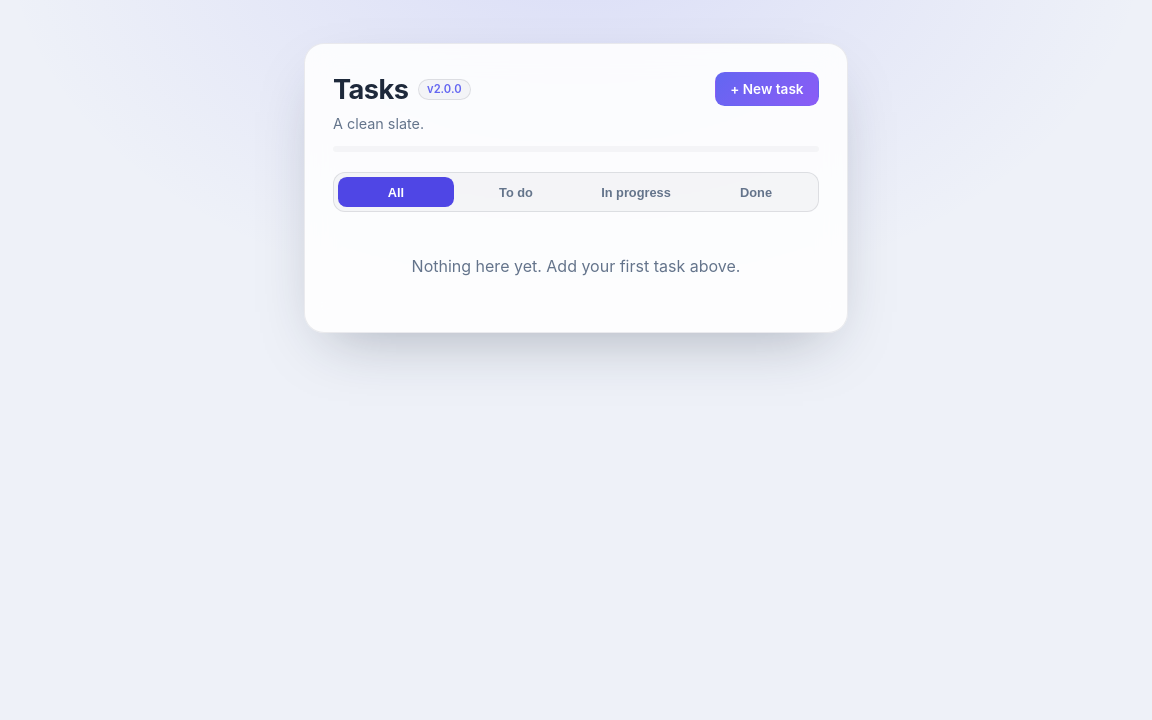
it: App › creating & editing › edits a task through the modal
Expected: the text "Nothing here yet. Add your first task above." is shown, left=412, top=256, right=740, bottom=276
Click the button "+ New task": (767, 89) left=715, top=72, right=819, bottom=106
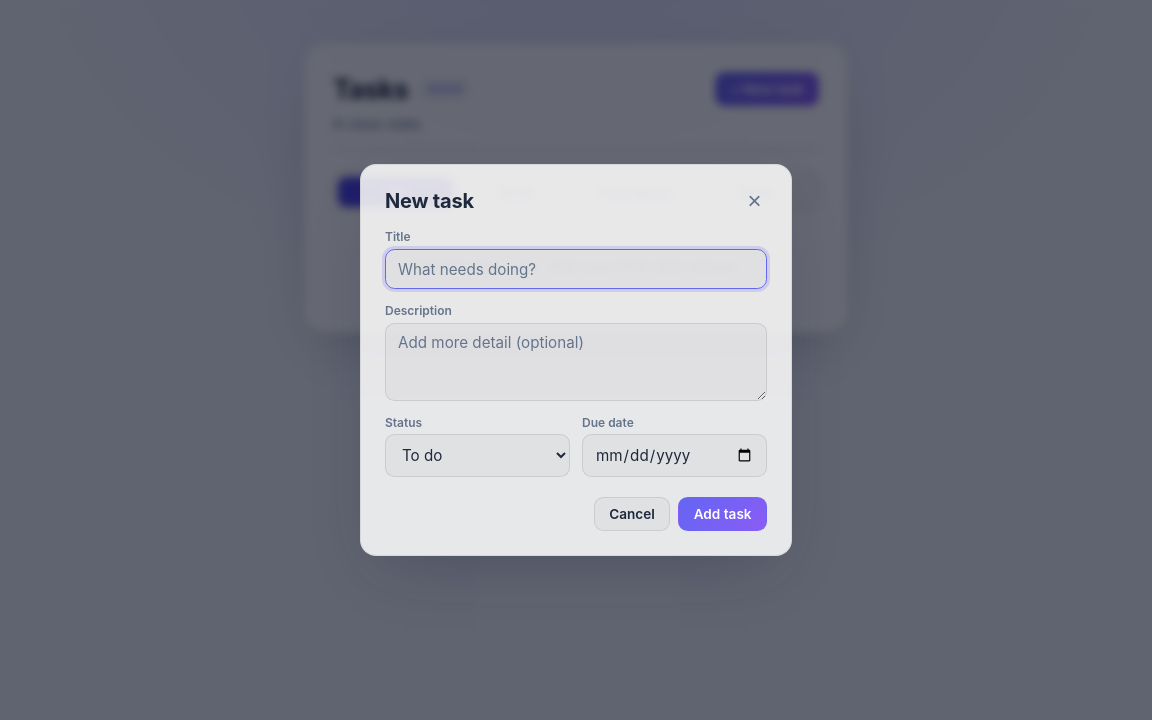
In the field named "task title": (576, 269) left=385, top=249, right=767, bottom=289, type "Old name"
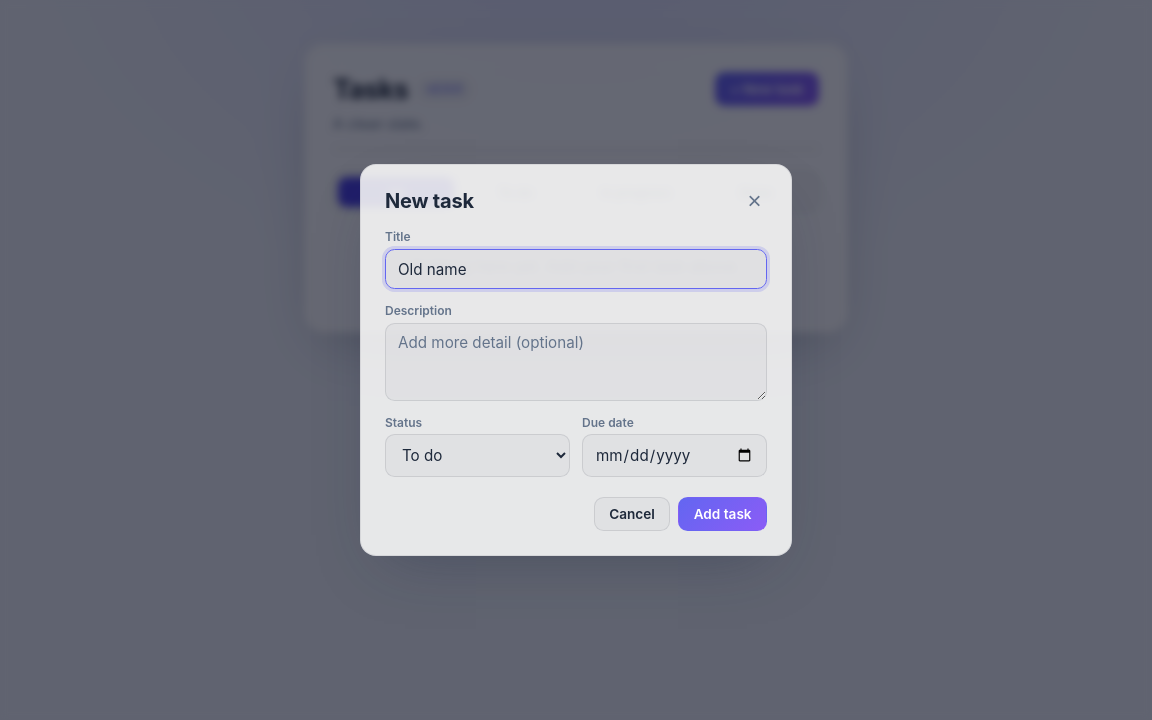
Click the button "Add task": (723, 514) left=678, top=497, right=767, bottom=531
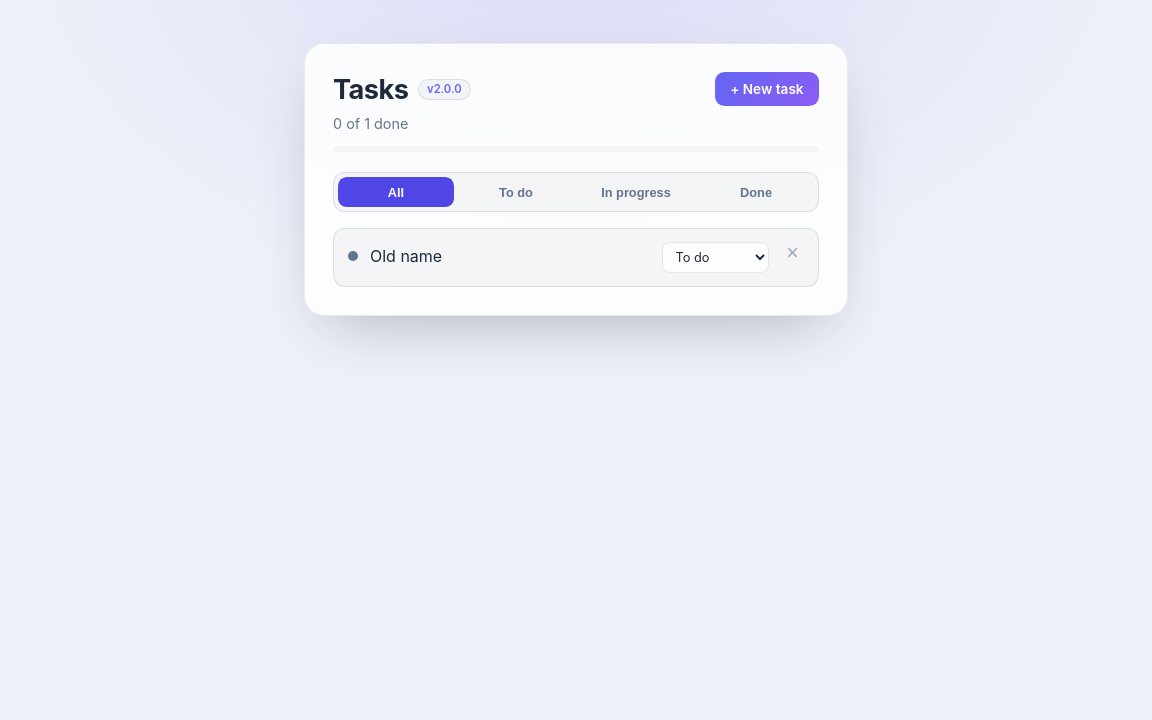
Now the text "Old name" is shown, box left=370, top=246, right=442, bottom=267
Click the button named "edit \"Old name\"": (406, 256) left=370, top=242, right=650, bottom=270
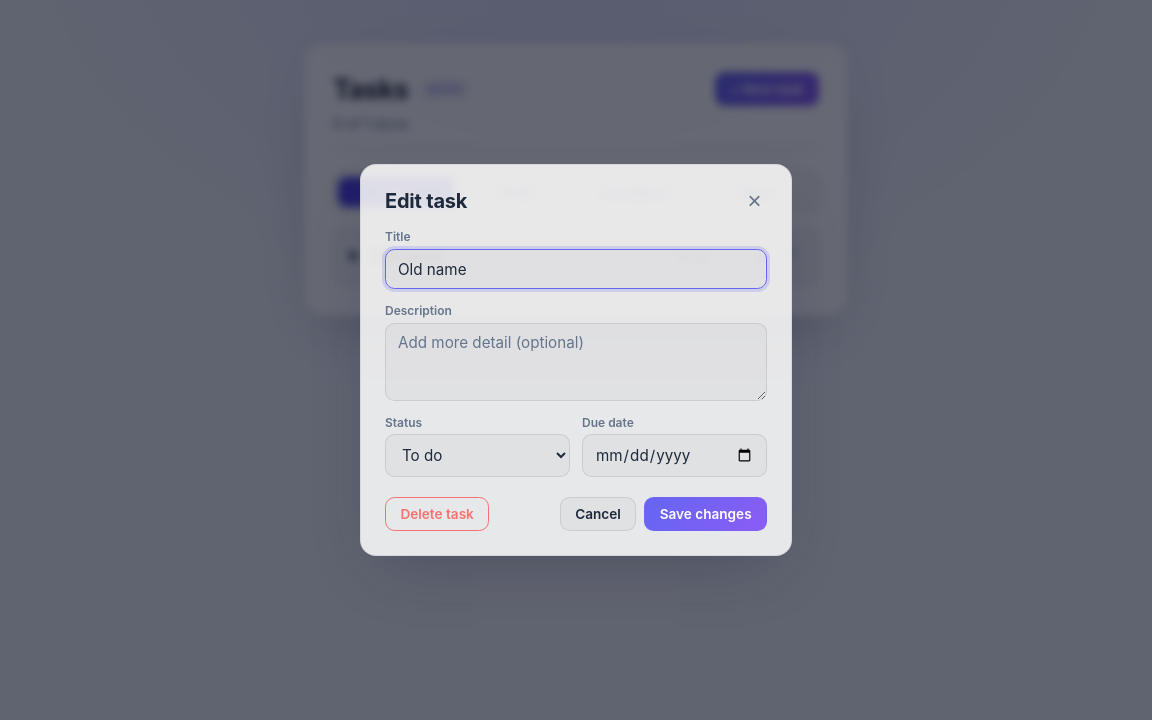
Replace the text in the field named "task title" with "New name": (576, 269) left=385, top=249, right=767, bottom=289
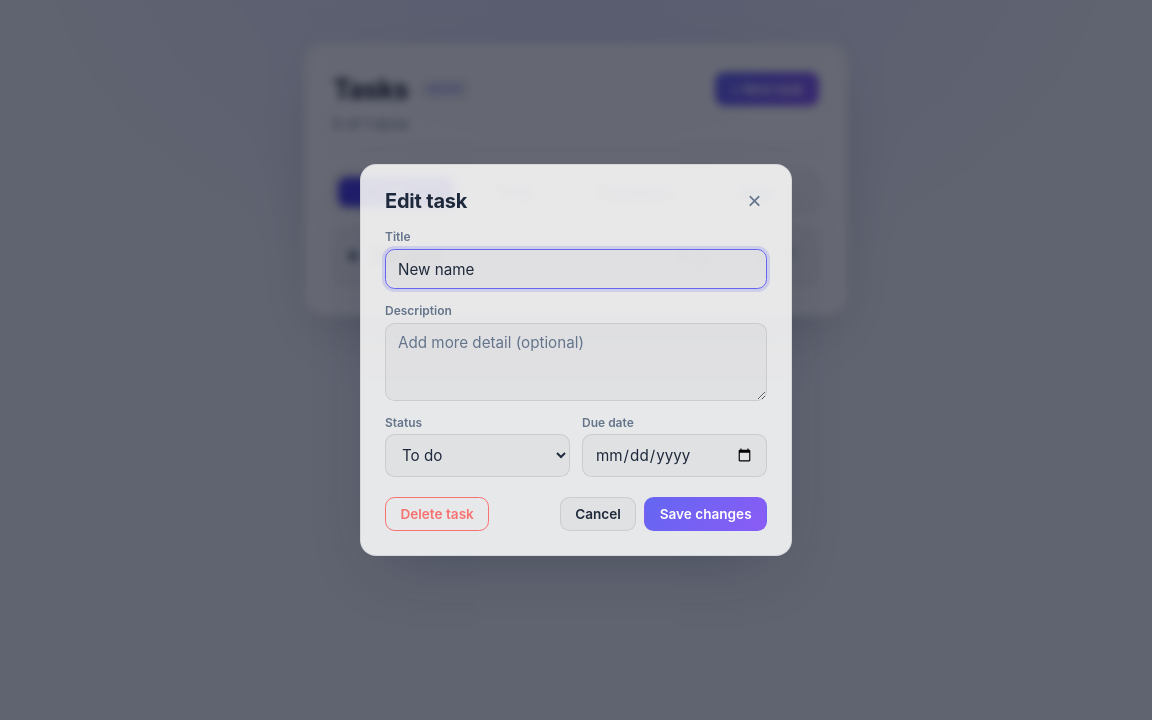
Click the button "Save changes": (706, 514) left=644, top=497, right=767, bottom=531
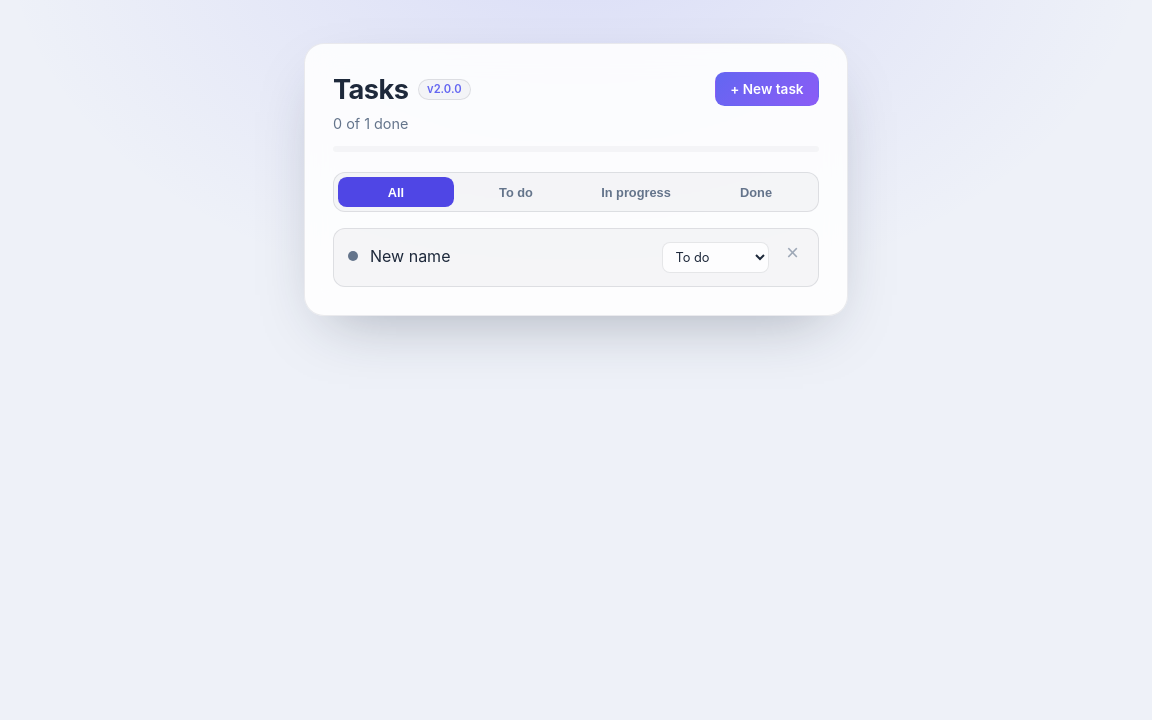
Now the text "New name" is shown, box left=370, top=246, right=450, bottom=267
Now the button "Old name" is gone
